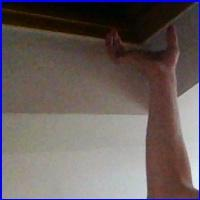space: (101, 18, 190, 80)
